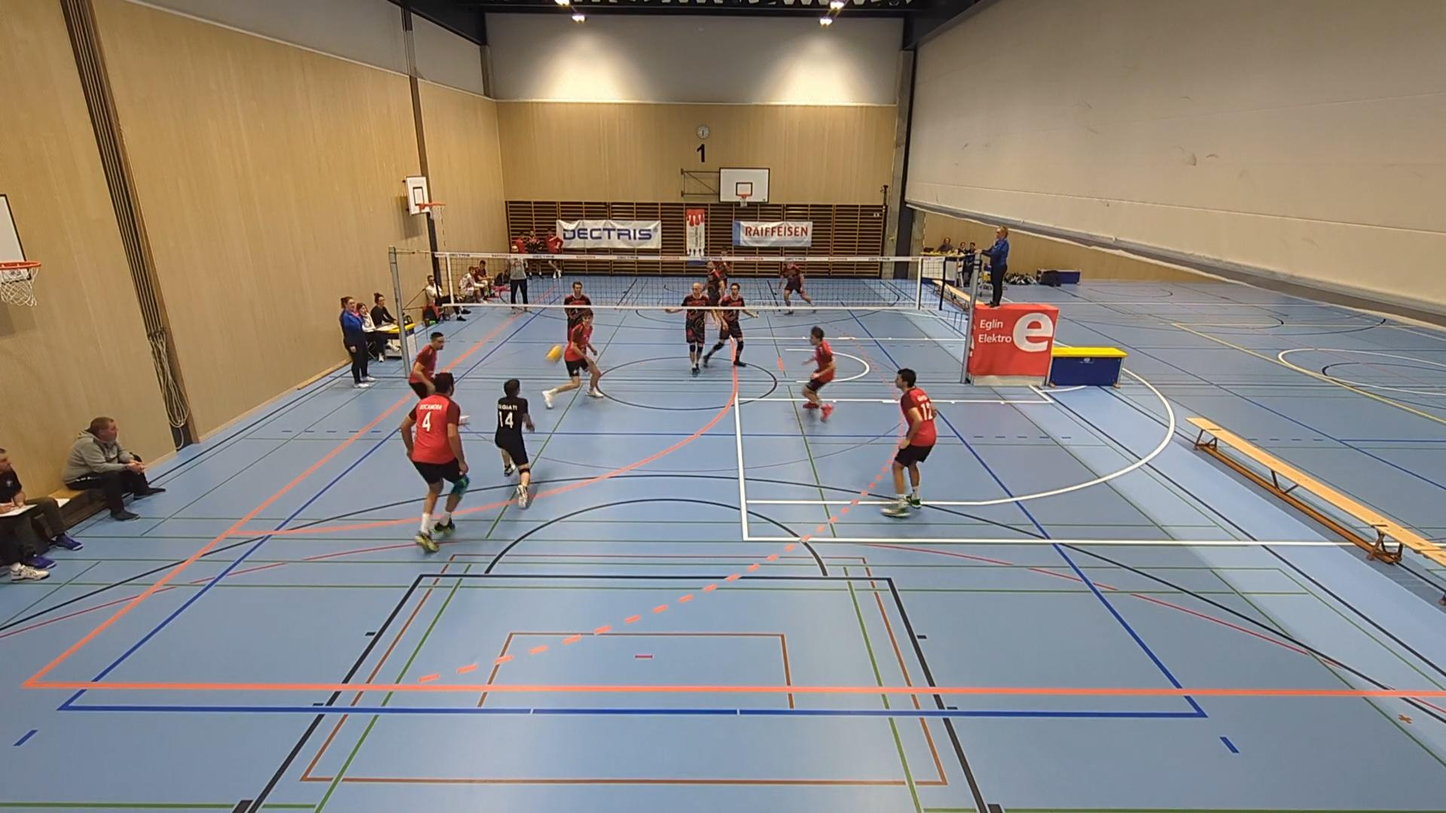ricezione: (496, 378, 535, 509)
